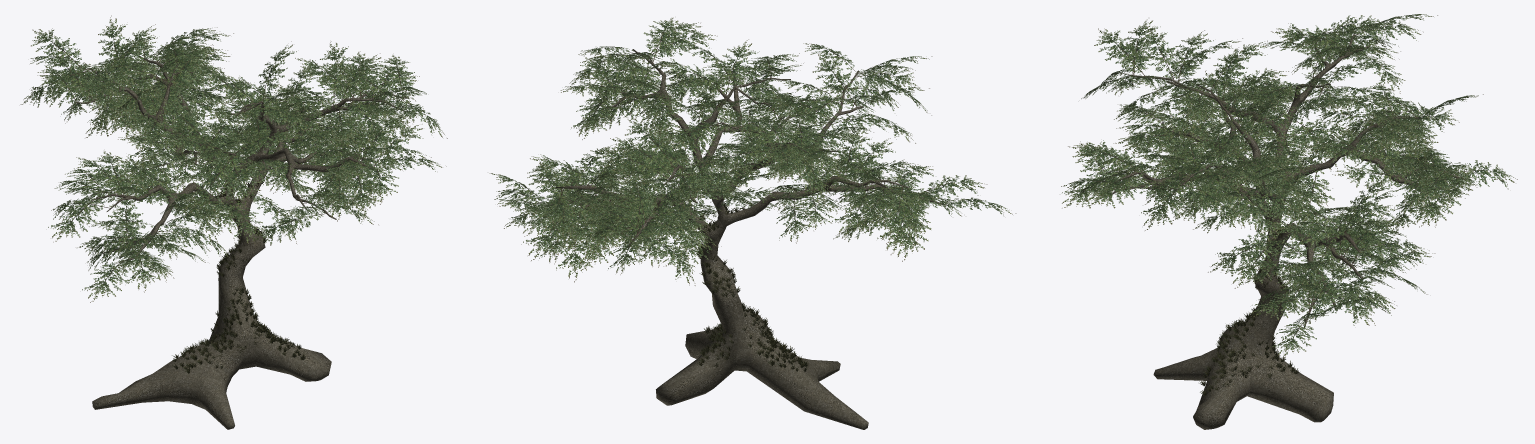
Rendered from mg_9_tree_1.fbx.
3 renders of one model, left to right at view 1: azimuth 30°, elevation 25°; view 2: azimuth 150°, elevation 25°; view 3: azimuth 270°, elevation 25°, orthographic. The views are drawn at different scales.
Visible parts, largest first — view 1: mg_9_tree_1; view 2: mg_9_tree_1; view 3: mg_9_tree_1.
Part boxes in pixels (bbox=[...]): mg_9_tree_1: bbox=[20, 15, 447, 429]; mg_9_tree_1: bbox=[489, 17, 1016, 429]; mg_9_tree_1: bbox=[1061, 14, 1517, 429].
Bounding box in the file's own units: 2768 × 1932 × 2425.
